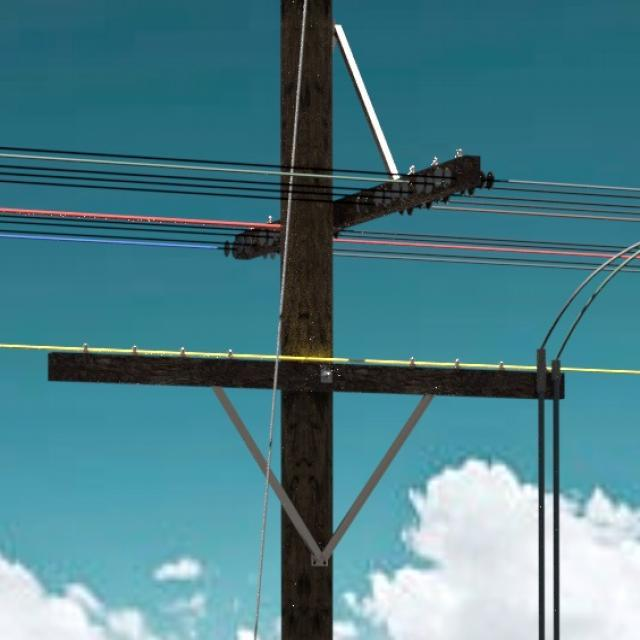crossarm: (230, 151, 494, 260), (47, 347, 540, 400)
pole: (279, 0, 333, 638)
